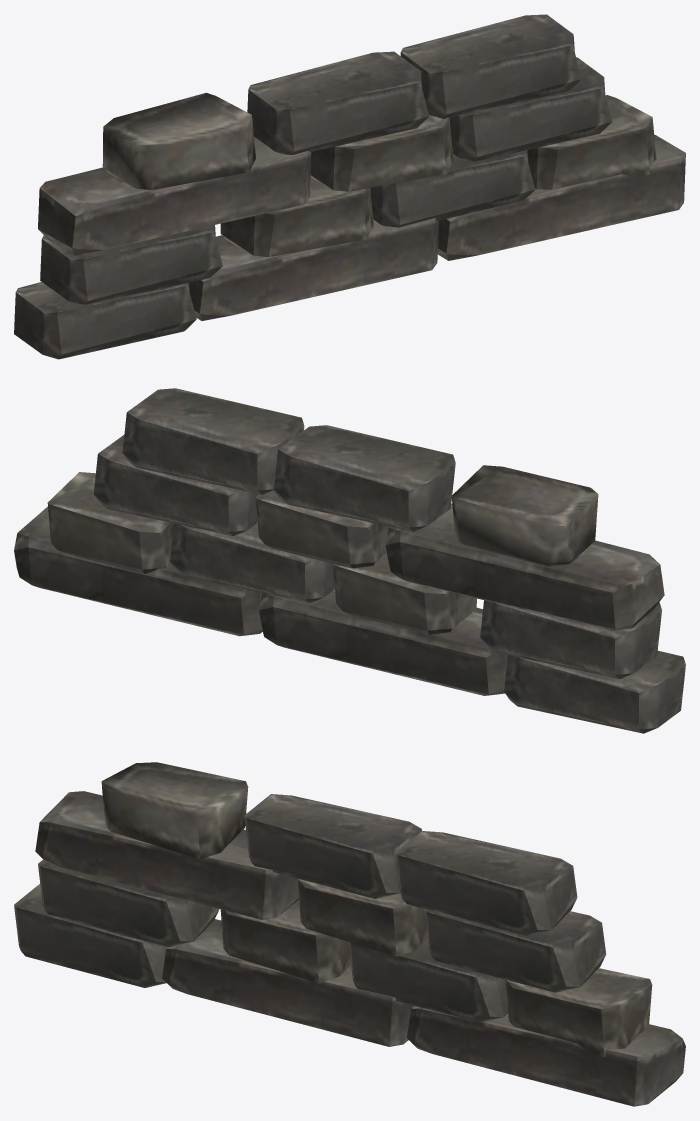
The model's file is SC_SLstone12.FBX.
The picture shows the model from 3 angles, top to bottom: view 1: azimuth 30°, elevation 25°; view 2: azimuth 150°, elevation 25°; view 3: azimuth 330°, elevation 25°; orthographic projection.
Visible parts, largest first — view 1: SC_SLstone12; view 2: SC_SLstone12; view 3: SC_SLstone12.
Boxes of the visible parts, <box> form: SC_SLstone12: <box>14,14,685,359</box>; SC_SLstone12: <box>14,388,685,733</box>; SC_SLstone12: <box>14,762,685,1106</box>.
Size of the model in its own units: 2.48 by 0.7343 by 0.3266.
